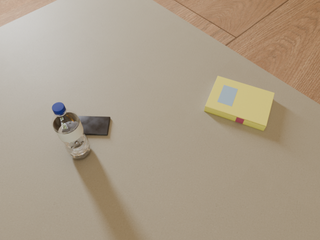book: (204, 76, 274, 131)
bottle: (52, 102, 91, 159)
phone: (78, 116, 110, 135)
